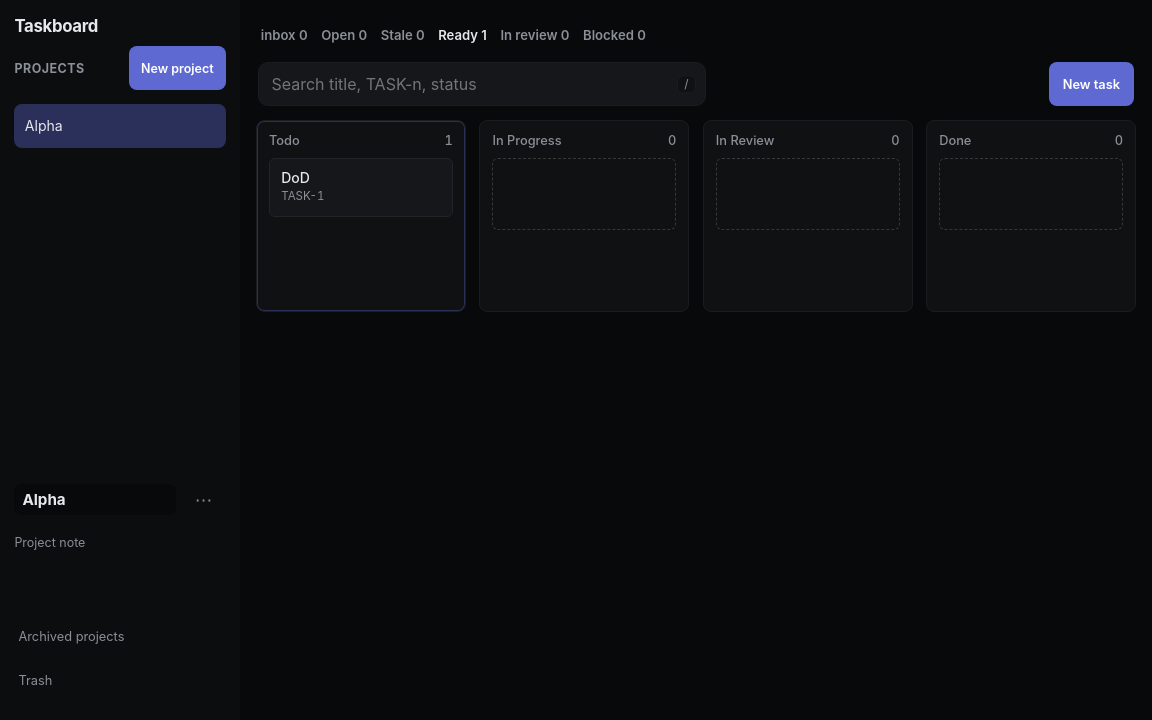
Scenario: Inspector checklists › shows checklist items as checkboxes without changing the note
What coordinates should you click on to do the following:
click the text "DoD"
I would click on:
 (296, 178)
Its box is [281,169,310,186].
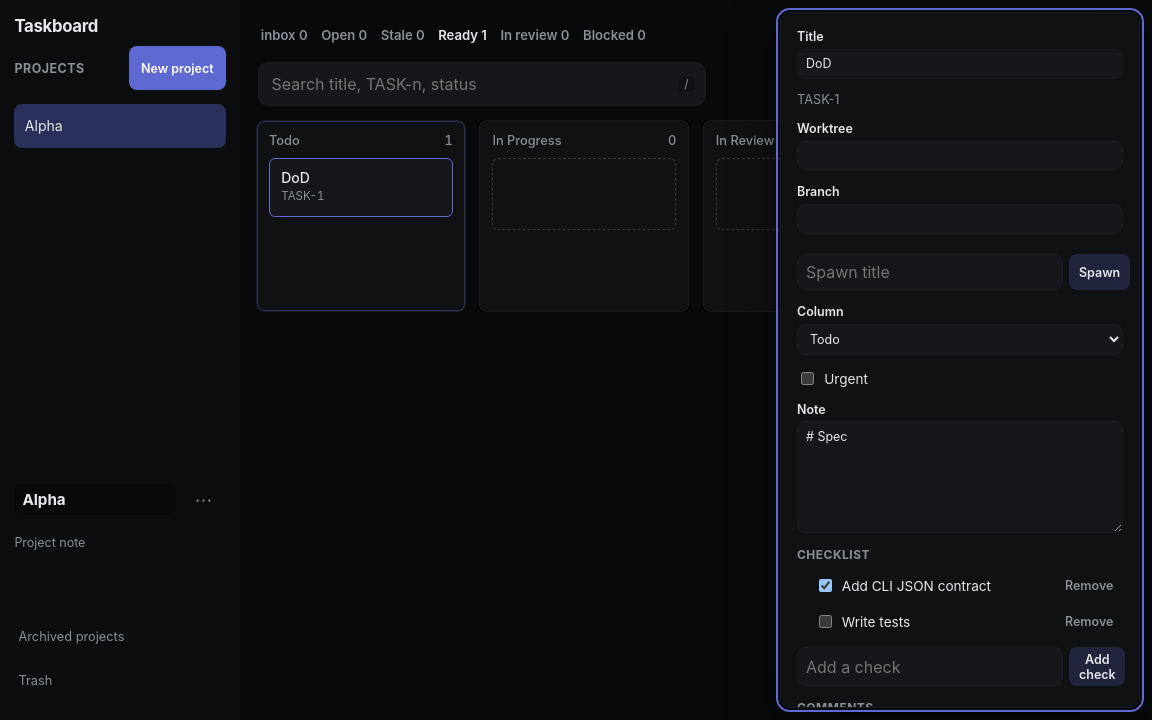
Now the checkbox labelled "Add CLI JSON contract" is checked, box [819,579,832,592]
Now the checkbox labelled "Write tests" is not checked, box [819,615,832,628]
Now the text box labelled "Note" holds "# Spec", box [797,422,1123,534]
